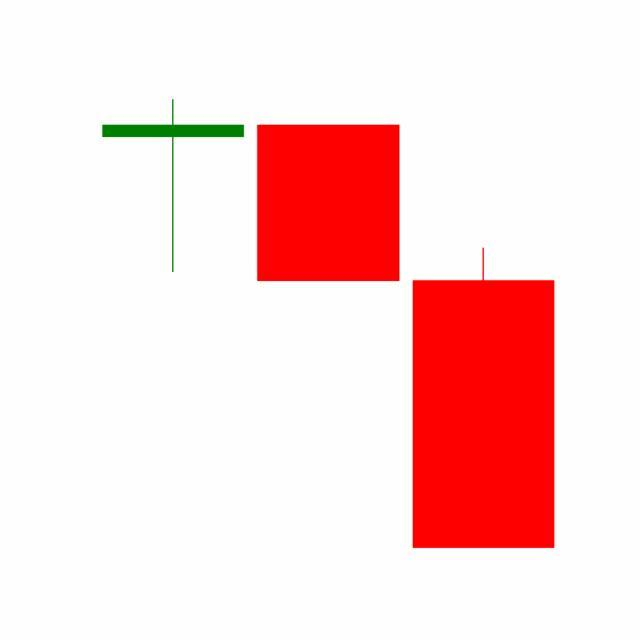Marubozu: (250, 124, 407, 284)
